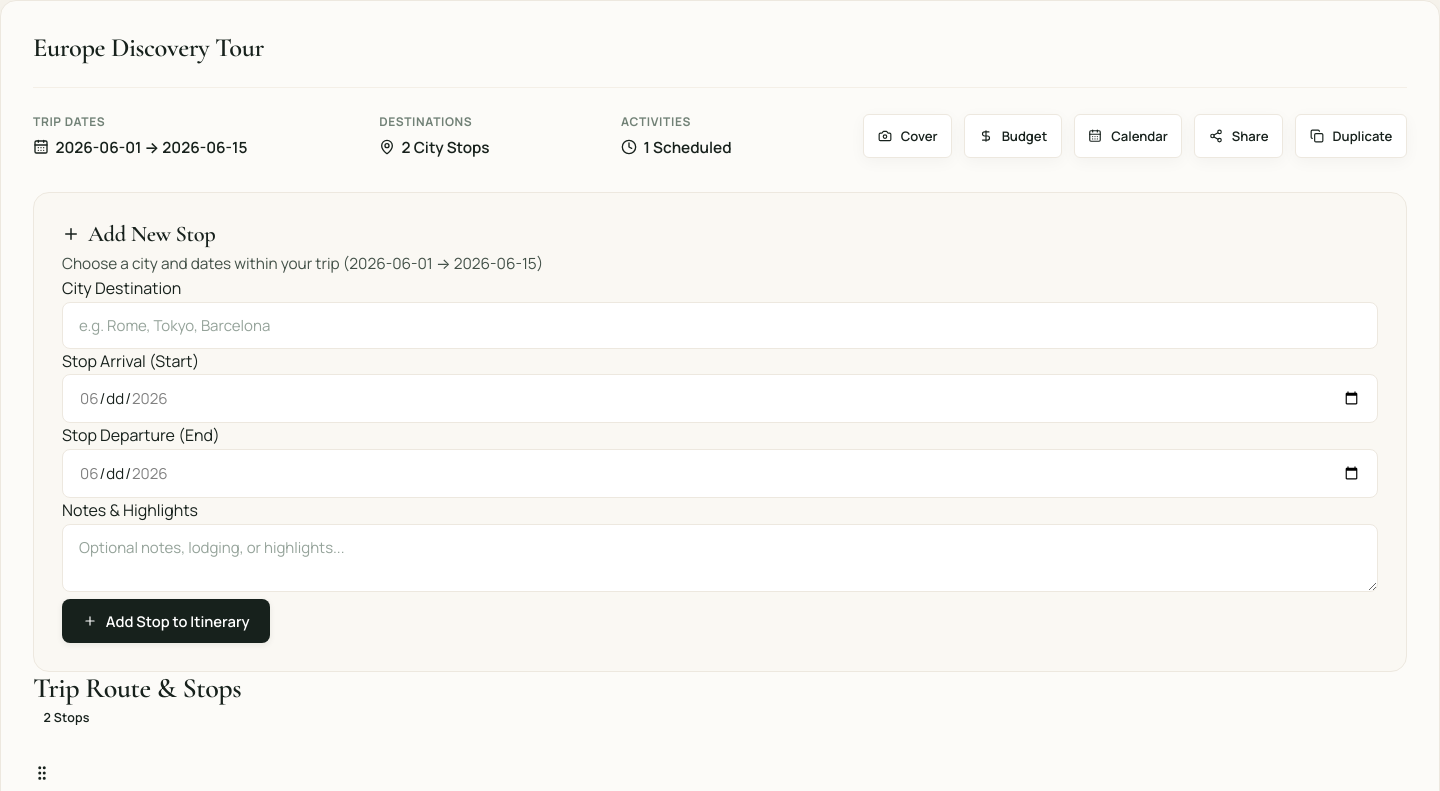
TripDetailPage Itinerary Builder › shows validation error when stop dates are outside trip range
Check: the heading "Europe Discovery Tour" is shown, box [33,32,264,64]
Step 1. Type "Amsterdam" into the field with placeholder "e.g. Rome, Tokyo, Barcelona" → [720, 325], box [62,302,1378,349]
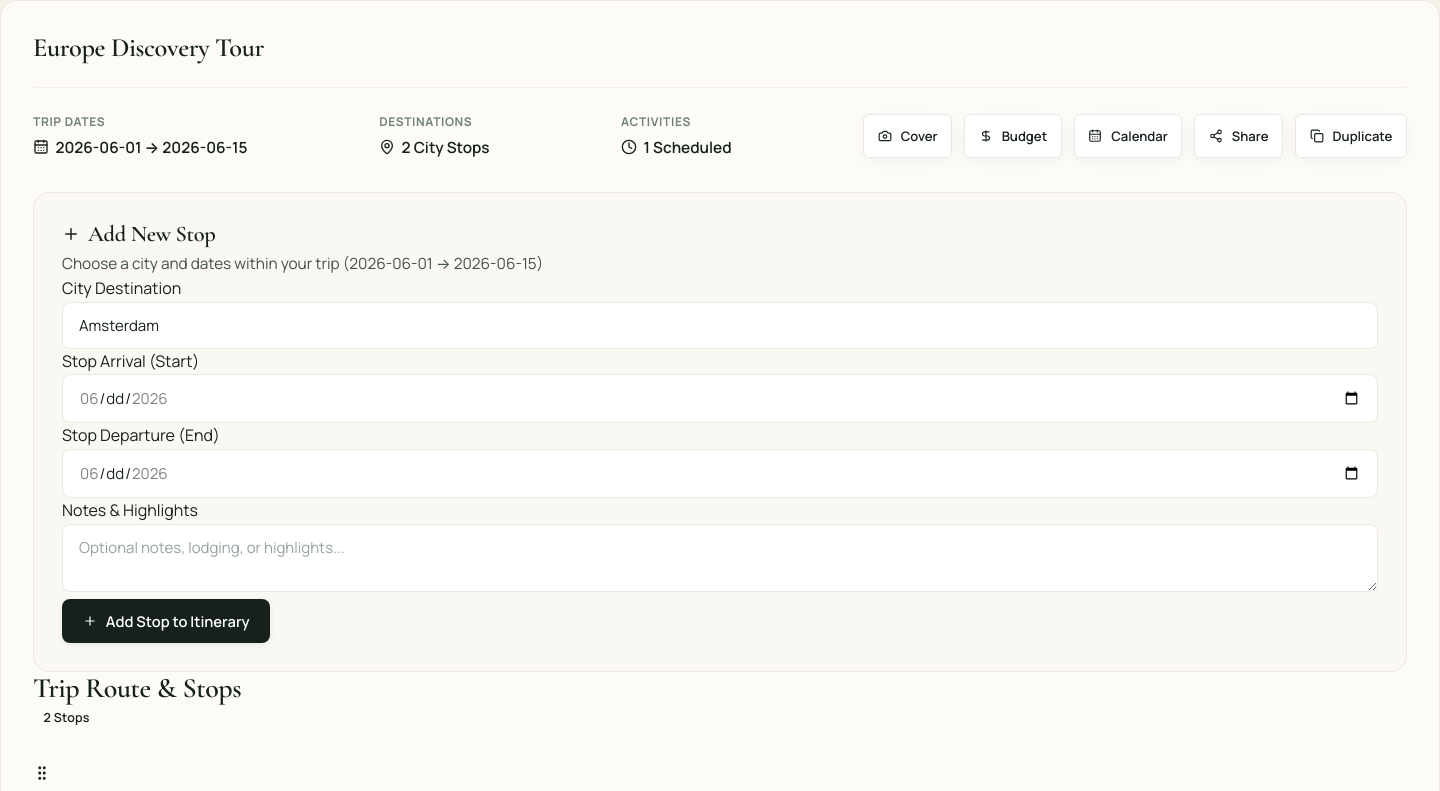
Step 2. Type "2026-05-25" into the date field labelled "Stop Arrival (Start)" → [720, 399], box [62,374,1378,423]
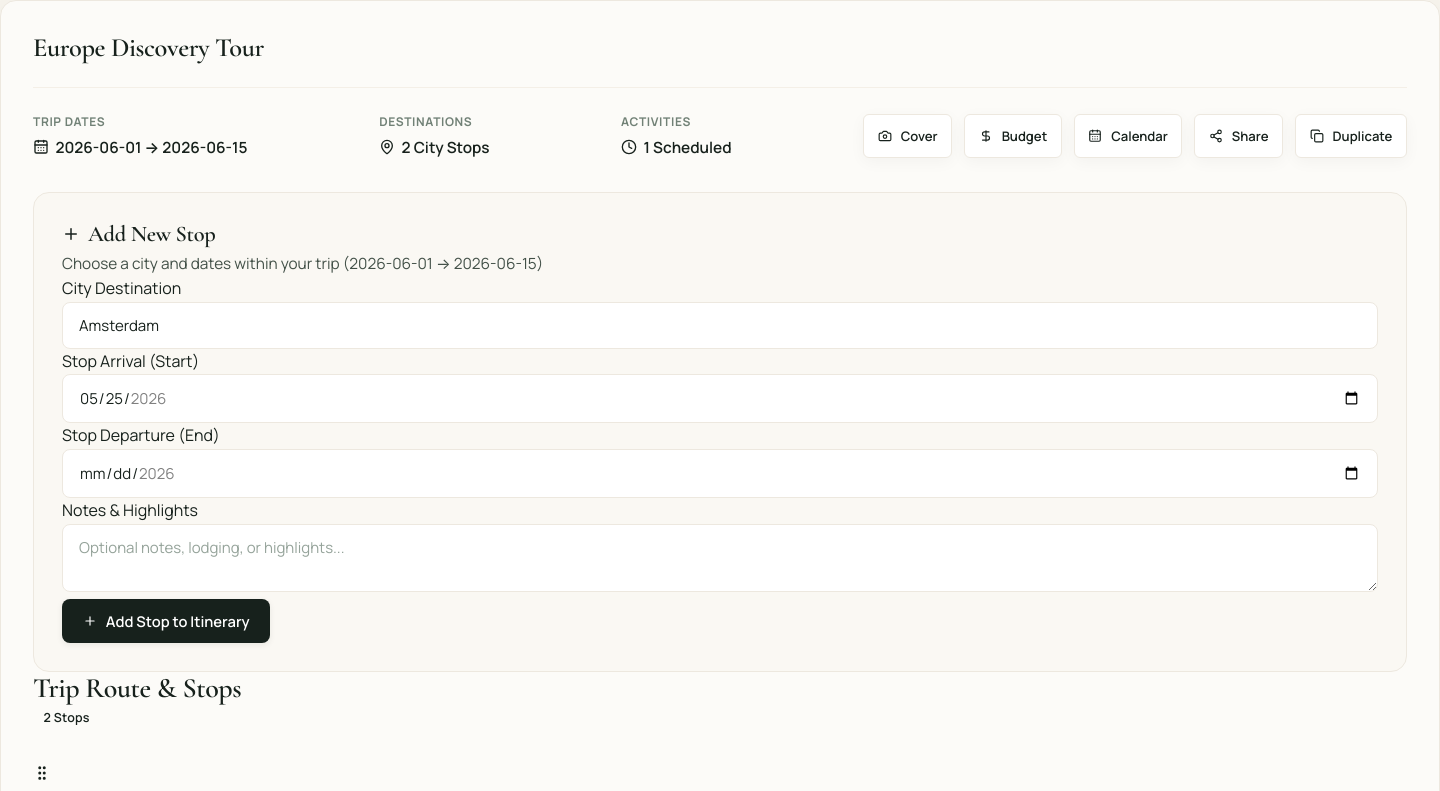
Step 3. Type "2026-06-02" into the date field labelled "Stop Departure (End)" → [720, 473], box [62,449,1378,498]
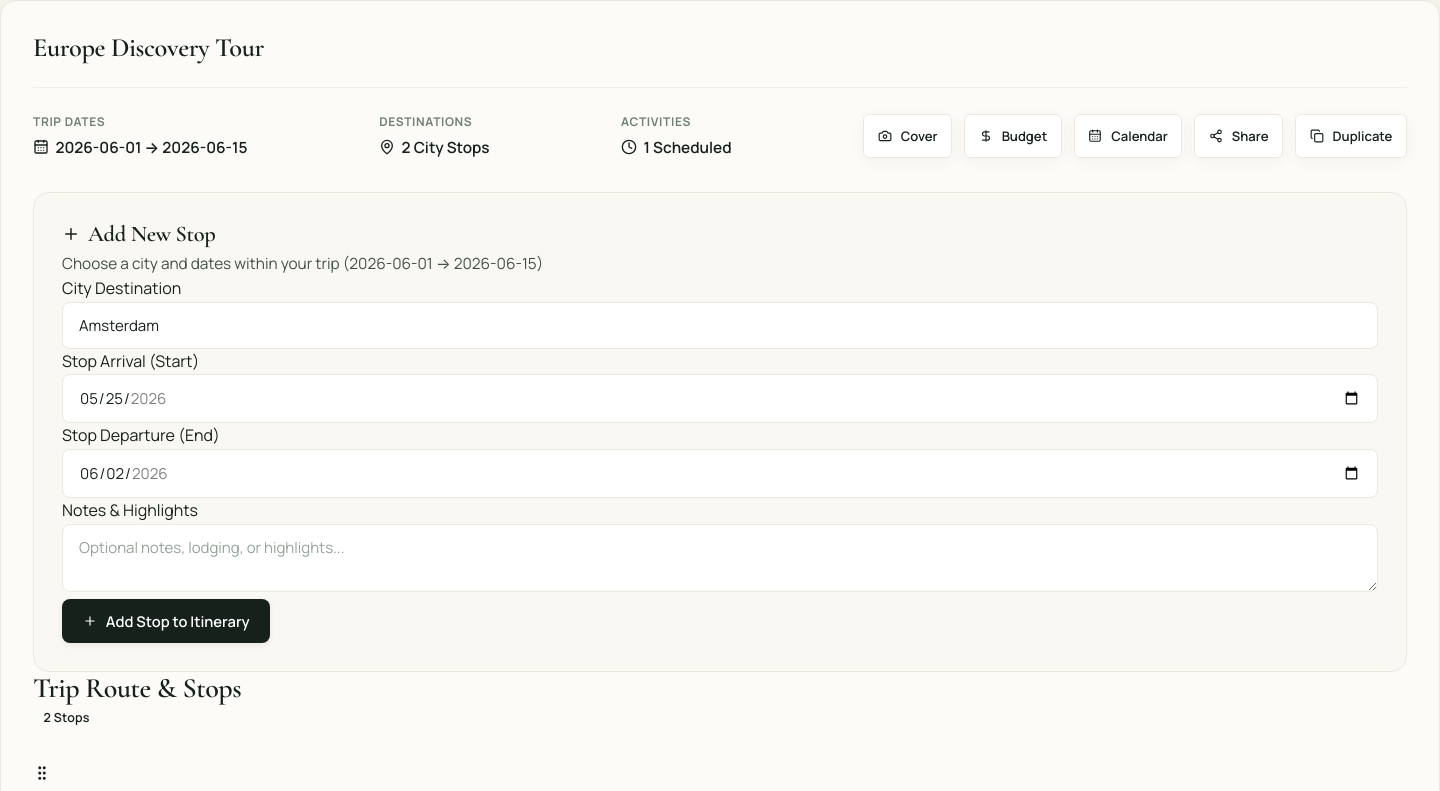
Step 4. Click the button "Add Stop to Itinerary" → [166, 621], box [62,599,270,643]
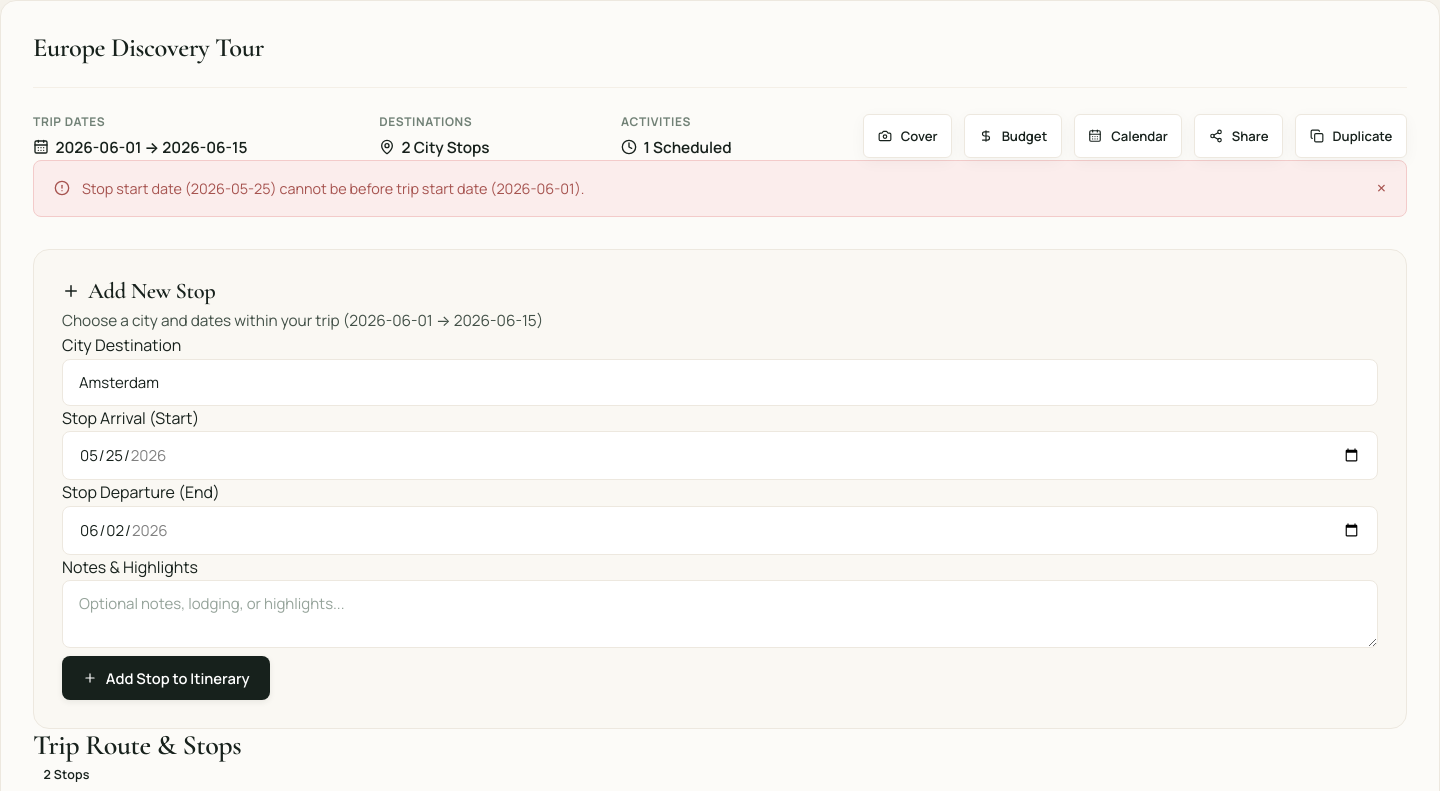
Check: the text "cannot be before trip start date" is shown, box [82,179,584,198]
